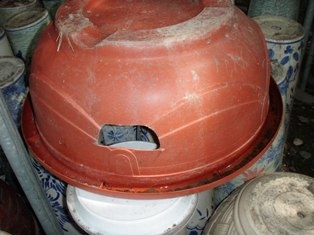bowl: (21, 1, 284, 198)
plate: (65, 183, 199, 235)
